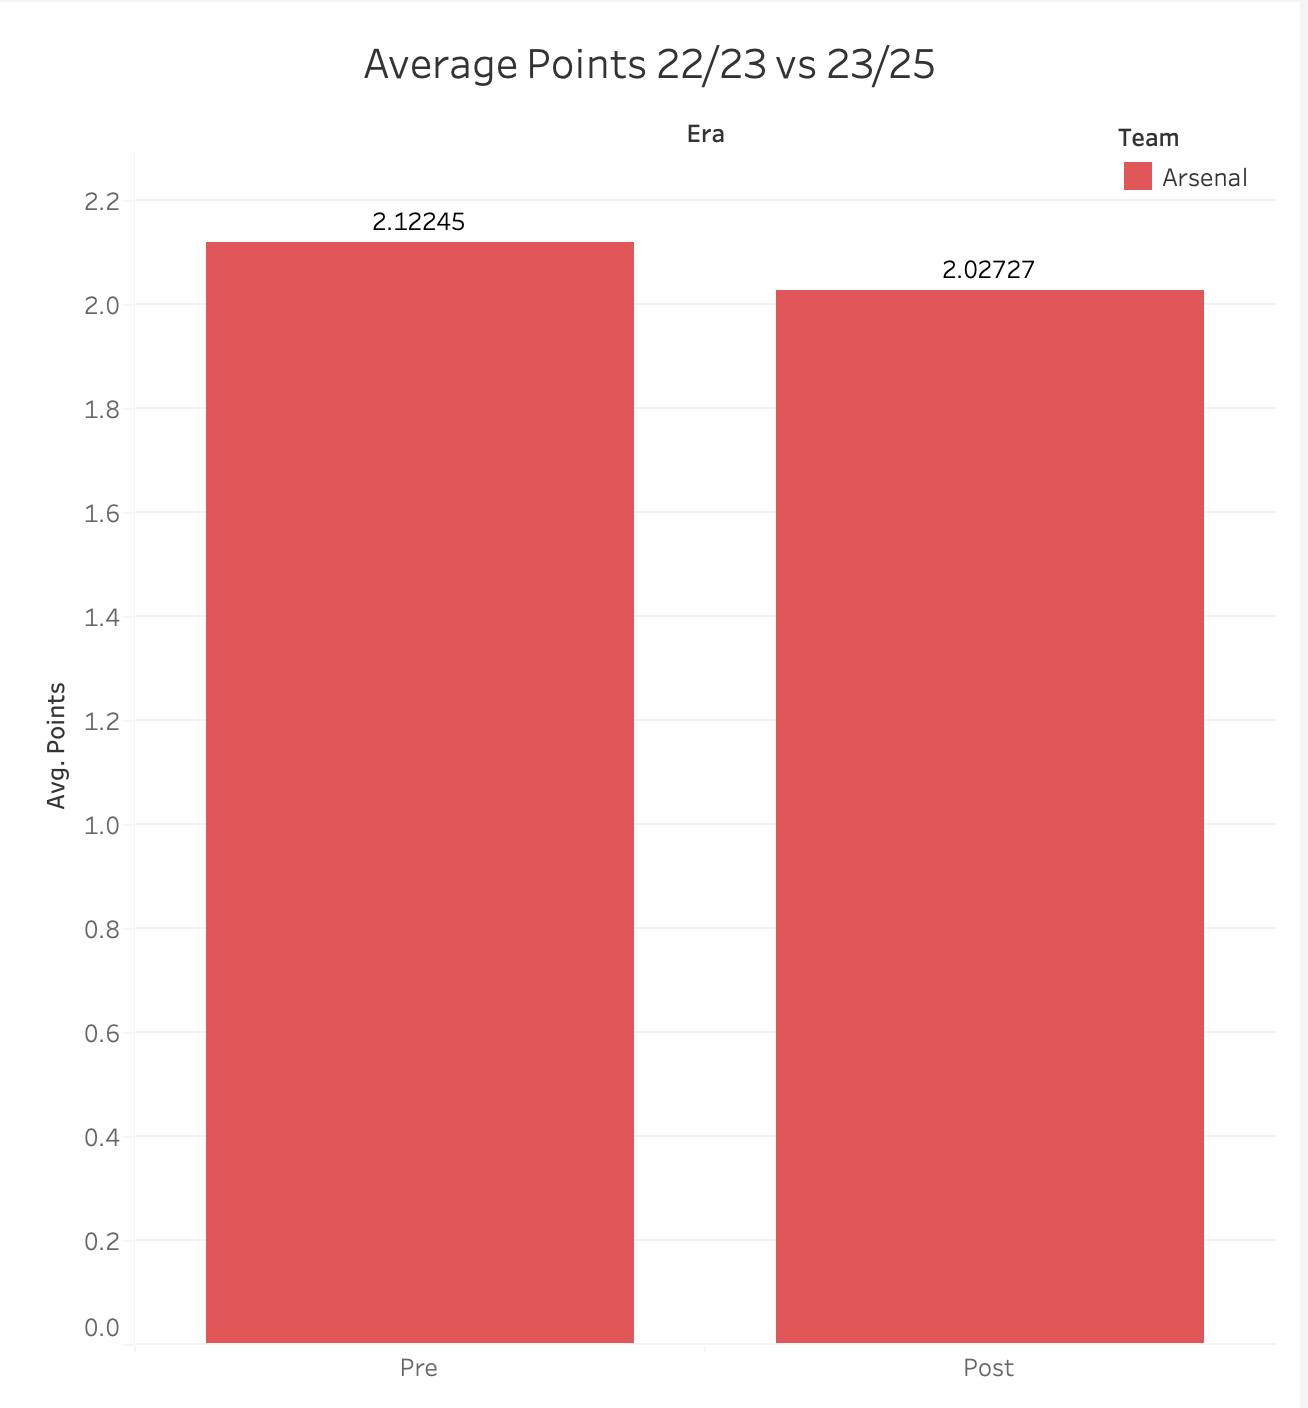

This screenshot's page, from the dashboard's own definition file:
{"tool":"tableau","page":{"name":"Dashboard 1","canvas":[650,860],"ordinal":0},"visuals":[{"type":"worksheet","title":"Average Points 22/23 vs 23/25","mark":"Automatic","rows":["Points"],"cols":["era"],"box":[8,9.8,634,840.5]}]}

Visuals, with their boxes on the page's 650x860 design canvas (x1, y1, x2, y2). These are canvas units, not pixel positions in the 1308x1408 screenshot, which may show the page scaled, cropped or inside an application window:
"Average Points 22/23 vs 23/25" worksheet: pyautogui.locateOnScreen(8, 10, 642, 850)
